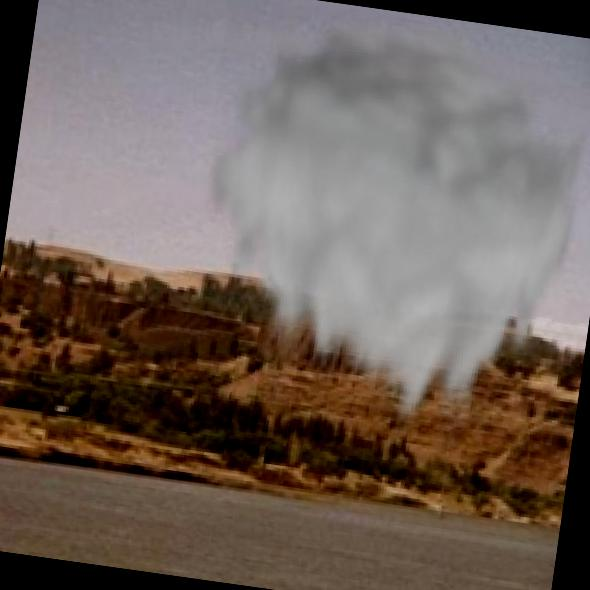smoke: (170, 0, 590, 460)
